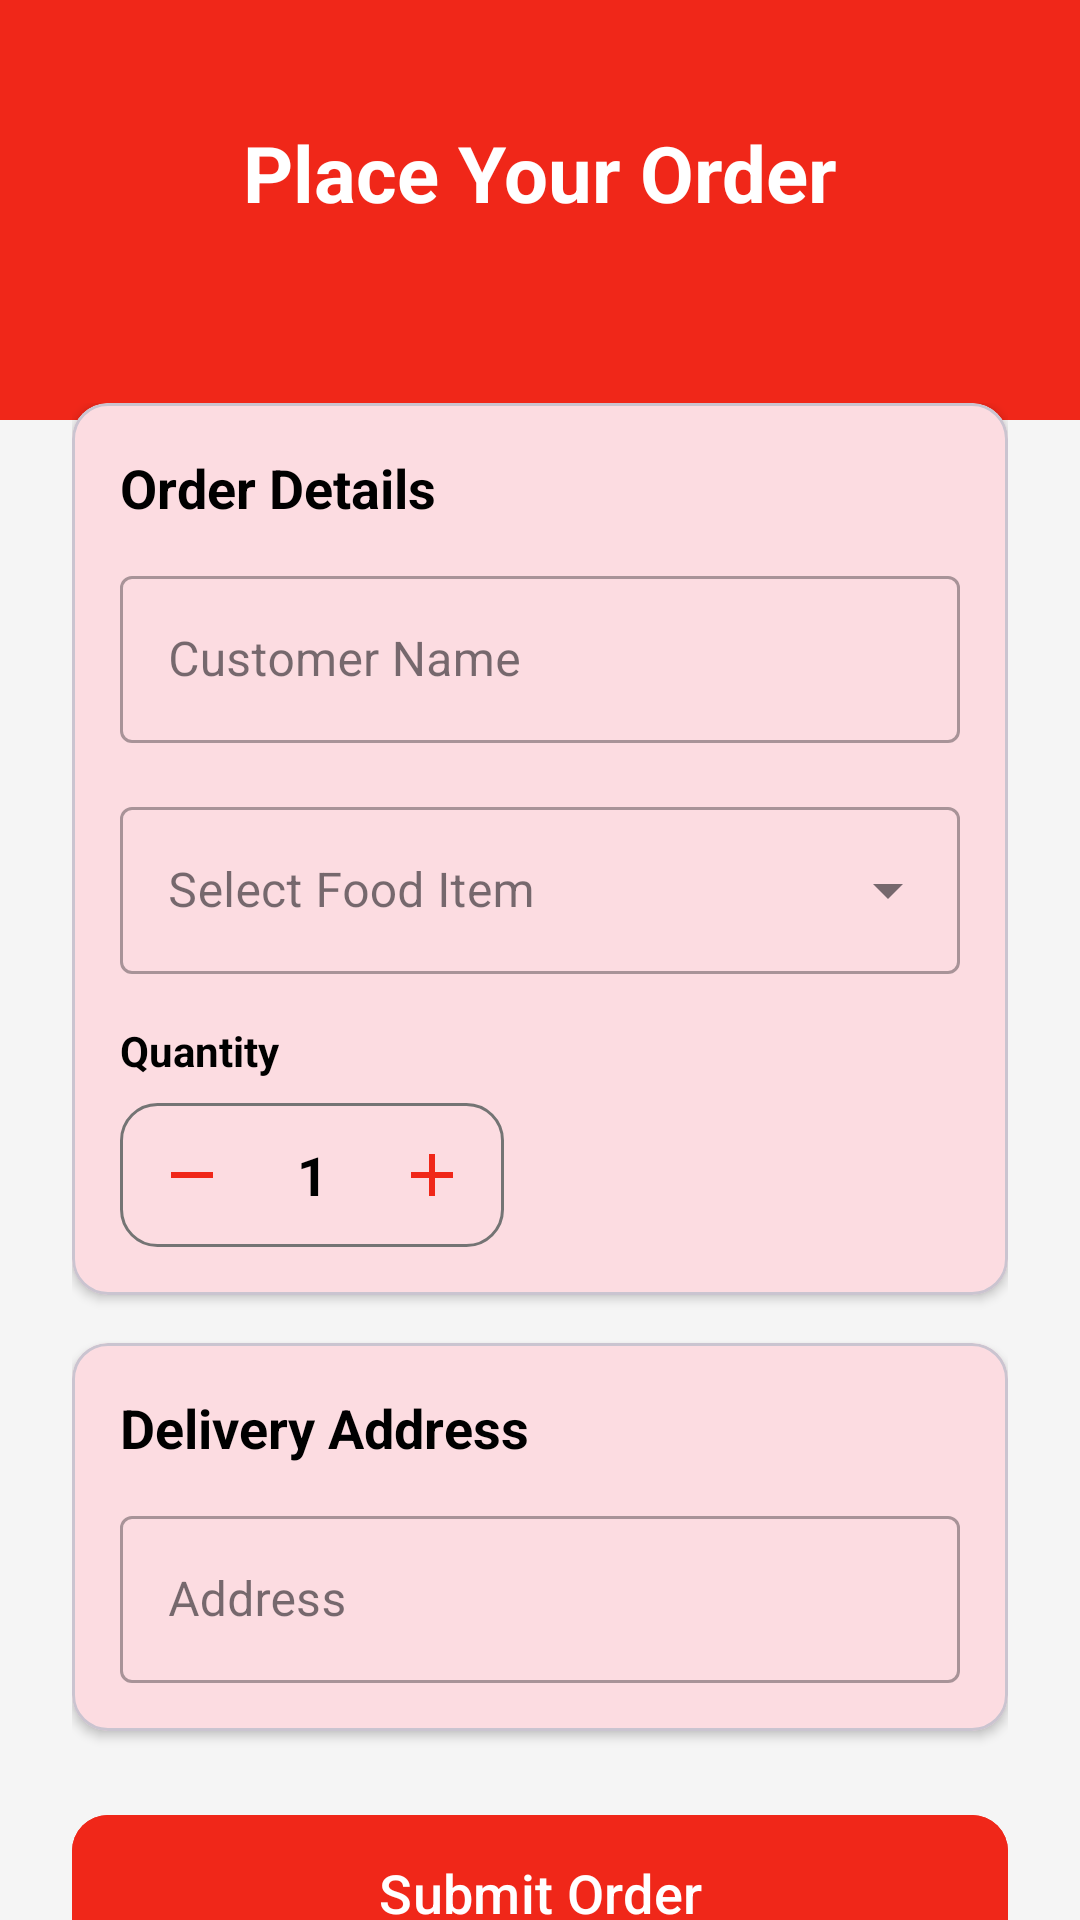

Icon click points for this 1080w x 1920h phone screenshot, format (x,y):
plus: (432,1175)
